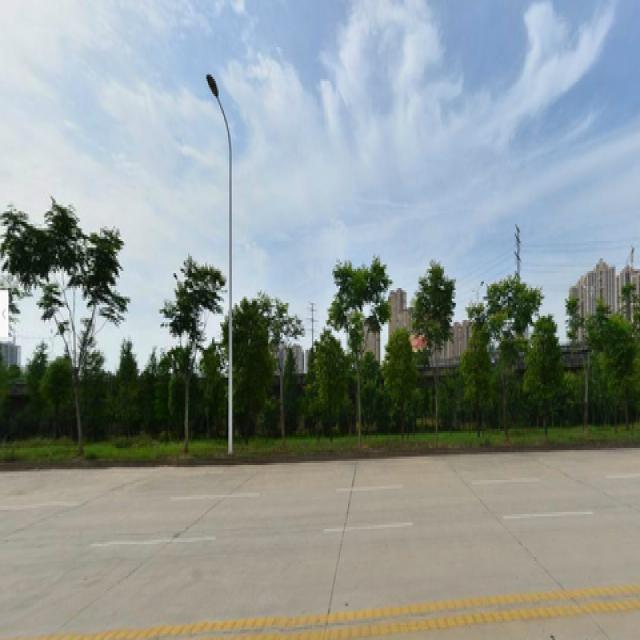koel: (18, 205, 106, 454), (161, 237, 211, 452), (342, 258, 382, 437), (413, 252, 448, 429)
